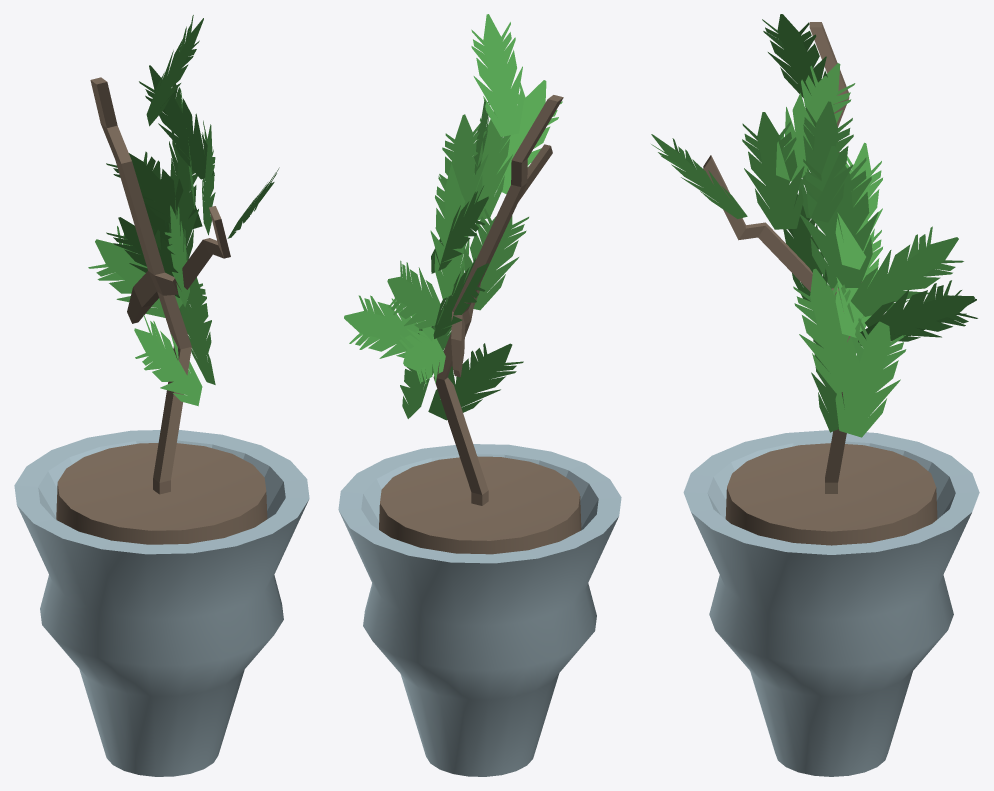
Rendered from plant_1.fbx.
3 renders of one model, left to right at view 1: azimuth 30°, elevation 25°; view 2: azimuth 150°, elevation 25°; view 3: azimuth 270°, elevation 25°, orthographic. The views are drawn at different scales.
Visible parts, largest first — view 1: pCylinder1, pCube1, pCube7, pCube11, pCube5, pCube14, pCube3, pCube13, pCube6, pCube4, pCube10, pCube8 (+1 smaller); view 2: pCylinder1, pCube1, pCube3, pCube7, pCube16, pCube13, pCube10, pCube15, pCube12, pCube8, pCube9, pCube14 (+3 smaller); view 3: pCylinder1, pCube13, pCube17, pCube15, pCube8, pCube1, pCube4, pCube16, pCube12, pCube11, pCube3, pCube5 (+4 smaller).
Part boxes in pixels (<box>): pCylinder1: <box>14,430,309,776</box>; pCube1: <box>90,77,230,494</box>; pCube7: <box>134,315,202,406</box>; pCube11: <box>139,65,214,179</box>; pCube5: <box>106,151,202,228</box>; pCube14: <box>88,226,182,317</box>; pCube3: <box>146,15,203,126</box>; pCube13: <box>168,131,198,260</box>; pCube6: <box>106,217,202,299</box>; pCube4: <box>186,277,211,355</box>; pCube10: <box>164,198,189,307</box>; pCube8: <box>202,120,215,235</box>; pCylinder1: <box>338,444,621,776</box>; pCube1: <box>433,95,563,505</box>; pCube3: <box>471,14,523,136</box>; pCube7: <box>428,343,523,420</box>; pCube16: <box>344,295,434,358</box>; pCube13: <box>430,161,469,298</box>; pCube10: <box>461,208,528,310</box>; pCube15: <box>387,260,440,329</box>; pCube12: <box>439,114,488,209</box>; pCube8: <box>473,112,512,219</box>; pCube9: <box>497,80,562,194</box>; pCube14: <box>397,328,445,384</box>; pCylinder1: <box>683,430,979,776</box>; pCube13: <box>800,146,878,288</box>; pCube17: <box>835,318,906,437</box>; pCube15: <box>851,226,963,316</box>; pCube8: <box>742,112,804,229</box>; pCube1: <box>703,22,871,493</box>; pCube4: <box>793,268,861,393</box>; pCube16: <box>865,280,977,341</box>; pCube12: <box>798,101,853,222</box>; pCube11: <box>776,63,855,181</box>; pCube3: <box>762,14,827,97</box>; pCube5: <box>835,142,882,269</box>.
Bounding box in the file's own units: 2.21 × 6.15 × 2.46.
